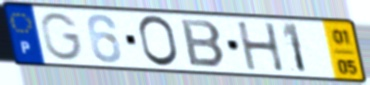1: (281, 21, 309, 76)
6: (85, 13, 124, 65)
B: (179, 17, 229, 70)
G: (39, 11, 86, 63)
H: (234, 20, 288, 73)
O: (136, 14, 182, 69)
